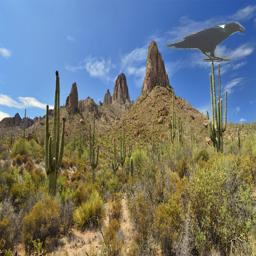Crow: (165, 21, 245, 62)
